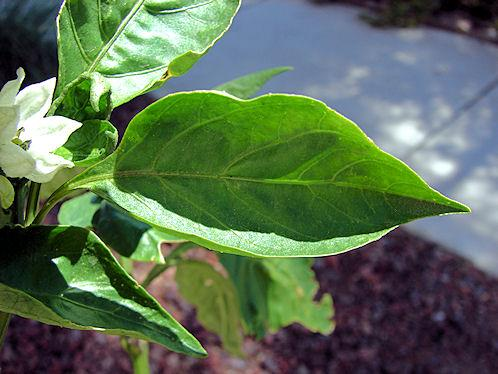Bell_pepper leaf spot: (105, 87, 474, 252)
